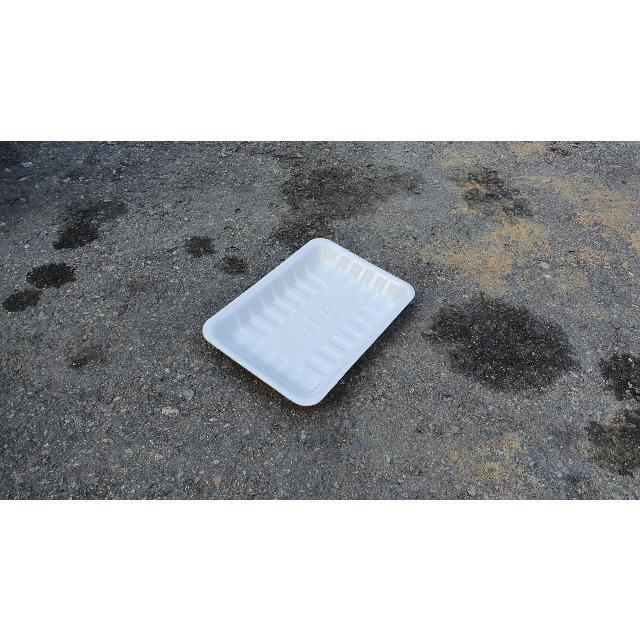Recipiente plastico: (202, 239, 415, 406)
